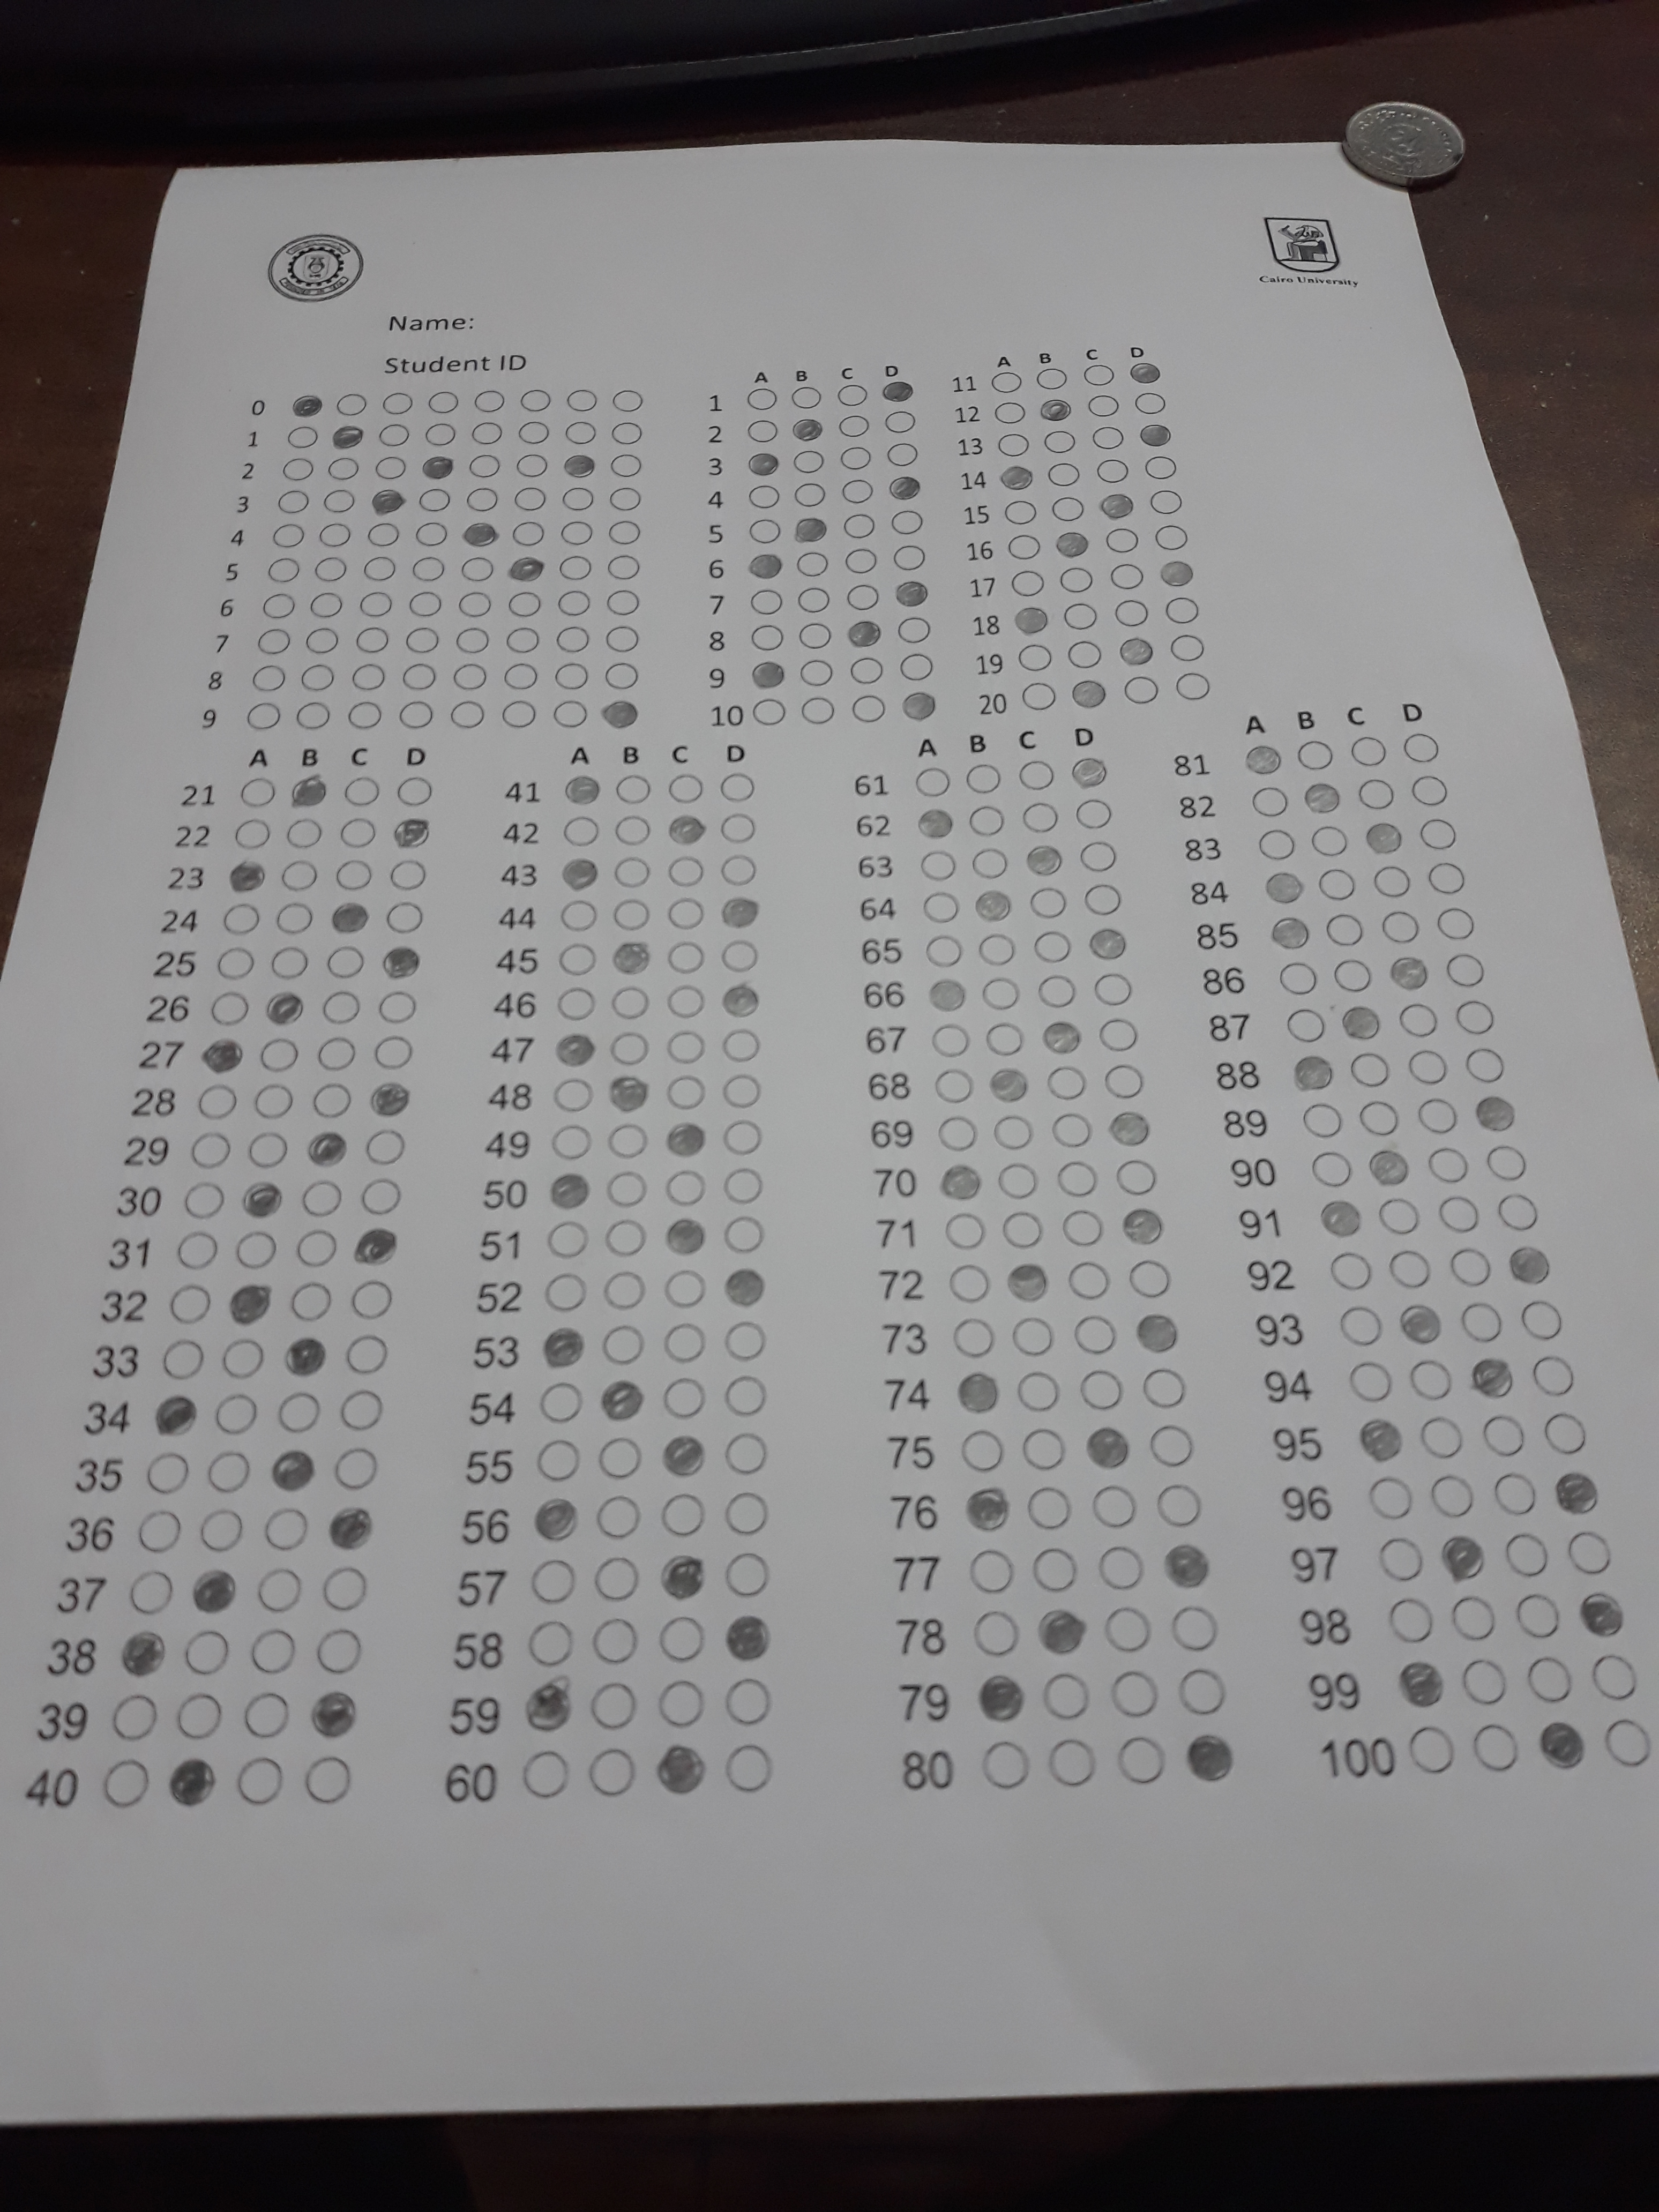not-c: (1103, 1604, 1154, 1655), (1108, 1669, 1159, 1719), (1471, 1721, 1521, 1771), (1405, 1724, 1455, 1775), (1460, 1655, 1511, 1705), (1527, 1653, 1577, 1703), (1589, 1651, 1640, 1702), (1513, 1590, 1563, 1641), (1448, 1594, 1499, 1644), (1385, 1595, 1436, 1646), (1502, 1529, 1553, 1580), (1377, 1534, 1427, 1585), (1089, 1480, 1140, 1531), (1154, 1479, 1204, 1529), (958, 1425, 1009, 1475), (1019, 1423, 1070, 1474), (1147, 1420, 1197, 1470), (1140, 1362, 1190, 1413), (1077, 1364, 1127, 1414), (1070, 1310, 1121, 1360), (721, 1676, 772, 1726), (537, 1378, 587, 1428), (660, 1372, 711, 1423), (721, 1428, 772, 1479), (720, 1487, 770, 1538), (315, 1625, 366, 1676), (723, 1743, 774, 1794), (587, 1747, 638, 1797), (526, 1616, 577, 1667), (721, 1550, 772, 1601), (528, 1557, 579, 1608), (1042, 1670, 1093, 1721), (972, 1608, 1023, 1658), (1168, 1602, 1218, 1653), (1096, 1541, 1147, 1592), (967, 1547, 1018, 1597), (319, 1562, 369, 1613), (230, 1226, 281, 1277), (303, 1756, 354, 1806), (234, 1754, 284, 1804), (247, 1627, 298, 1677), (254, 1564, 305, 1615), (662, 1261, 713, 1312), (599, 1264, 650, 1315), (166, 1278, 216, 1329), (286, 1277, 336, 1327), (159, 1336, 209, 1386), (181, 1627, 232, 1677), (204, 1447, 254, 1498), (336, 1386, 387, 1437), (101, 1757, 152, 1808), (110, 1691, 160, 1742), (125, 1566, 176, 1616), (141, 1447, 192, 1498), (659, 1487, 709, 1538), (596, 1430, 647, 1480), (535, 1435, 586, 1486), (723, 1677, 772, 1728), (1115, 1735, 1166, 1784), (1601, 1717, 1652, 1766), (1026, 1482, 1075, 1533), (1012, 1367, 1063, 1416), (657, 1679, 708, 1728), (598, 1320, 647, 1371), (660, 1318, 711, 1367), (720, 1372, 770, 1421), (592, 1493, 643, 1541), (521, 1749, 572, 1797), (591, 1616, 641, 1665), (981, 1742, 1032, 1791), (1047, 1737, 1096, 1787), (1030, 1545, 1080, 1594), (291, 1223, 342, 1271), (171, 1226, 221, 1275), (240, 1689, 291, 1738), (345, 1275, 396, 1324), (216, 1336, 267, 1385), (275, 1388, 326, 1437), (258, 1505, 308, 1554), (209, 1390, 260, 1439), (174, 1691, 225, 1740), (197, 1505, 246, 1555), (342, 1331, 392, 1379), (329, 1444, 380, 1493), (136, 1507, 186, 1555), (659, 1613, 709, 1662), (1178, 1669, 1227, 1717), (721, 1318, 770, 1367), (591, 1681, 640, 1730), (591, 1555, 640, 1604), (601, 1214, 652, 1261), (1427, 1474, 1476, 1521), (950, 1313, 999, 1360), (999, 1207, 1047, 1254), (542, 1270, 592, 1315), (1567, 1531, 1615, 1576), (1492, 1472, 1540, 1517), (1368, 1475, 1417, 1521), (1417, 1414, 1466, 1460), (1481, 1413, 1530, 1458), (1544, 1411, 1593, 1456), (1530, 1353, 1579, 1399), (1406, 1357, 1455, 1402), (1345, 1359, 1394, 1404), (1007, 1313, 1056, 1359), (1124, 1256, 1173, 1301), (1065, 1258, 1114, 1303), (945, 1259, 993, 1305), (939, 1209, 988, 1254), (1058, 1205, 1107, 1251), (1053, 1157, 1101, 1202), (1518, 1298, 1565, 1343), (721, 1212, 767, 1258), (1114, 1158, 1162, 1200), (1459, 1301, 1507, 1343), (1338, 1305, 1387, 1346), (1326, 1249, 1375, 1291), (1448, 1245, 1497, 1287), (1434, 1193, 1483, 1235), (1413, 1096, 1462, 1137), (1298, 1099, 1347, 1141), (1049, 1109, 1096, 1151), (990, 1111, 1037, 1153), (934, 1113, 981, 1155), (932, 1066, 979, 1108), (1389, 1249, 1436, 1291), (1495, 1191, 1542, 1233), (1377, 1193, 1424, 1235), (1483, 1141, 1530, 1183), (1425, 1143, 1473, 1184), (1307, 1148, 1354, 1190), (1356, 1097, 1403, 1139), (997, 1158, 1040, 1202), (549, 1122, 596, 1162), (605, 1169, 652, 1209), (608, 1122, 653, 1162), (664, 1071, 709, 1111), (720, 1118, 765, 1158), (664, 1169, 709, 1209), (721, 1167, 767, 1207), (545, 1219, 591, 1259), (314, 1033, 359, 1073), (256, 1036, 301, 1076), (195, 1082, 240, 1122), (251, 1082, 296, 1122), (310, 1082, 355, 1122), (246, 1130, 291, 1170), (188, 1130, 234, 1170), (181, 1181, 227, 1221), (301, 1179, 347, 1219), (359, 1176, 404, 1216), (364, 1127, 410, 1167), (373, 1031, 418, 1071), (720, 937, 763, 975), (1331, 956, 1375, 995), (1016, 756, 1060, 794), (1354, 775, 1398, 813), (1091, 970, 1133, 1008), (1037, 972, 1079, 1010), (1046, 1064, 1087, 1103), (1096, 1015, 1138, 1054), (1032, 928, 1073, 967), (979, 974, 1021, 1012), (1103, 1062, 1145, 1101), (1351, 1050, 1392, 1089), (1455, 998, 1497, 1036), (1399, 1001, 1441, 1040), (1445, 953, 1486, 991), (922, 888, 964, 927), (917, 846, 958, 885), (1019, 799, 1061, 838), (1072, 796, 1114, 834), (1384, 907, 1425, 946), (1427, 859, 1469, 897), (1371, 862, 1413, 900), (1317, 866, 1359, 904), (1256, 826, 1298, 864), (1401, 728, 1443, 766), (1295, 737, 1337, 775), (1026, 885, 1070, 921), (965, 803, 1009, 840), (962, 761, 1006, 798), (985, 1021, 1026, 1057), (931, 1022, 972, 1059), (976, 930, 1018, 967), (1464, 1047, 1506, 1083), (1406, 1049, 1448, 1085), (1286, 1008, 1328, 1045), (1277, 960, 1319, 996), (1082, 881, 1124, 918), (922, 934, 964, 970), (1079, 838, 1121, 874), (969, 845, 1011, 881), (1324, 911, 1366, 948), (1436, 907, 1478, 944), (1417, 817, 1459, 853), (1309, 822, 1351, 859), (1408, 772, 1450, 808), (1249, 784, 1291, 820), (1349, 733, 1391, 770), (375, 989, 416, 1026), (667, 939, 709, 975), (321, 989, 362, 1026), (666, 772, 708, 808), (326, 944, 368, 981), (270, 944, 312, 981), (284, 815, 326, 852), (209, 989, 251, 1026), (218, 900, 260, 937), (232, 815, 274, 852), (239, 775, 281, 812), (394, 772, 436, 808), (385, 900, 427, 937), (556, 986, 598, 1022), (612, 986, 653, 1022), (666, 984, 708, 1021), (552, 1076, 594, 1113), (666, 1029, 708, 1066), (720, 1028, 762, 1064), (720, 1073, 762, 1109), (558, 897, 599, 934), (612, 897, 653, 934), (666, 853, 708, 890), (612, 853, 653, 890), (716, 810, 758, 846), (612, 812, 653, 848), (716, 768, 758, 805), (558, 942, 599, 977), (277, 859, 319, 894), (214, 946, 256, 981), (335, 859, 376, 894), (338, 815, 380, 850), (342, 773, 383, 808), (387, 859, 429, 894), (610, 1031, 652, 1066), (666, 895, 708, 930), (716, 852, 758, 887), (561, 813, 603, 848), (274, 900, 314, 935), (242, 700, 282, 732), (254, 625, 295, 657), (455, 589, 495, 620), (404, 587, 444, 618), (260, 590, 300, 622), (457, 552, 497, 583), (406, 552, 446, 583), (263, 556, 303, 587), (605, 517, 645, 549), (268, 521, 308, 552), (411, 519, 451, 550), (511, 484, 551, 516), (462, 484, 502, 516), (415, 484, 455, 516), (319, 484, 359, 516), (894, 613, 934, 644), (796, 657, 836, 688), (798, 695, 838, 726), (552, 624, 592, 655), (448, 698, 488, 730), (403, 625, 443, 657), (345, 698, 385, 730), (293, 700, 333, 732), (296, 662, 336, 693), (742, 415, 782, 446), (789, 446, 829, 477), (746, 516, 786, 547), (887, 507, 927, 538), (840, 545, 880, 577), (791, 549, 831, 580), (1061, 601, 1101, 632), (1056, 564, 1096, 596), (1006, 531, 1046, 563), (1107, 563, 1147, 594), (1168, 632, 1208, 664), (1173, 671, 1213, 702), (1019, 681, 1060, 712), (552, 698, 591, 730), (249, 662, 288, 693), (303, 625, 342, 657), (507, 587, 545, 618), (357, 589, 396, 620), (307, 589, 345, 620), (310, 556, 349, 587), (509, 517, 547, 549), (317, 521, 355, 552), (366, 521, 404, 552), (608, 484, 647, 516), (500, 698, 538, 730), (502, 660, 540, 691), (899, 651, 938, 683), (849, 655, 887, 686), (850, 693, 889, 725), (603, 660, 641, 691), (603, 622, 641, 653), (504, 625, 542, 657), (453, 625, 491, 657), (397, 698, 436, 730), (401, 660, 439, 691), (352, 625, 390, 657), (603, 585, 641, 617), (556, 587, 594, 618), (843, 580, 882, 611), (836, 411, 875, 442), (882, 406, 920, 437), (836, 442, 875, 474), (884, 439, 922, 470), (838, 475, 877, 507), (789, 479, 828, 510), (744, 481, 782, 512), (795, 583, 833, 615), (842, 510, 880, 542), (749, 622, 788, 653), (1016, 641, 1054, 672), (1066, 639, 1105, 671), (1011, 568, 1049, 599), (1049, 493, 1087, 524), (1114, 597, 1152, 629), (1164, 594, 1202, 625), (1122, 674, 1161, 705), (558, 484, 598, 514), (451, 662, 491, 691), (349, 662, 389, 691), (913, 768, 953, 798), (1000, 498, 1040, 528), (1101, 526, 1141, 556), (556, 552, 594, 582), (605, 552, 643, 582), (361, 554, 399, 583), (558, 517, 596, 547), (552, 662, 591, 691), (617, 773, 655, 803), (749, 697, 788, 726), (796, 622, 835, 651), (889, 543, 927, 573), (749, 587, 788, 617), (1154, 524, 1190, 554), (1147, 488, 1183, 517), (1094, 456, 1131, 486), (1141, 453, 1178, 482), (1089, 421, 1126, 451), (1040, 427, 1077, 456), (995, 430, 1032, 460), (1133, 388, 1169, 418), (1082, 390, 1119, 420), (992, 397, 1028, 427), (1080, 361, 1117, 390), (1033, 364, 1070, 394), (988, 369, 1025, 399), (836, 381, 873, 411), (789, 383, 826, 413), (742, 383, 779, 413), (274, 486, 310, 516), (326, 453, 362, 482), (373, 453, 410, 482), (610, 451, 647, 481), (516, 451, 552, 481), (467, 451, 504, 481), (610, 420, 647, 449), (563, 418, 599, 448), (518, 420, 554, 449), (469, 418, 505, 448), (422, 420, 458, 449), (284, 423, 321, 453), (378, 420, 415, 449), (608, 387, 645, 416), (563, 387, 599, 416), (518, 385, 554, 415), (472, 387, 509, 416), (425, 387, 462, 416), (378, 388, 415, 418), (335, 390, 371, 420), (1047, 460, 1082, 489), (281, 453, 315, 482)
taken-c: (181, 1564, 244, 1616), (321, 1501, 383, 1554), (718, 1613, 781, 1665), (516, 1683, 577, 1735), (162, 1756, 223, 1808), (113, 1627, 174, 1679), (261, 1444, 322, 1496), (301, 1689, 362, 1740), (653, 1743, 708, 1796), (1534, 1721, 1588, 1773), (1183, 1731, 1236, 1784), (1396, 1660, 1450, 1709), (1159, 1541, 1213, 1590), (960, 1486, 1014, 1534), (1438, 1533, 1492, 1581), (1082, 1423, 1136, 1472), (950, 1367, 1004, 1416), (1033, 1608, 1086, 1656), (974, 1672, 1026, 1721), (1467, 1353, 1520, 1402), (1577, 1590, 1631, 1637), (1394, 1299, 1448, 1346), (146, 1392, 202, 1437), (535, 1325, 591, 1371), (542, 1169, 598, 1214), (223, 1282, 279, 1327), (1549, 1470, 1601, 1517), (1354, 1416, 1406, 1463), (279, 1334, 333, 1379), (655, 1432, 709, 1477), (596, 1379, 650, 1425), (657, 1216, 711, 1261), (234, 1177, 288, 1223), (349, 1224, 403, 1270), (533, 1493, 580, 1543), (657, 1554, 711, 1597), (301, 1129, 352, 1170), (364, 1078, 415, 1120), (197, 1035, 247, 1076), (261, 988, 312, 1029), (657, 1118, 708, 1160), (603, 1075, 653, 1115), (547, 1029, 598, 1069), (326, 899, 376, 939), (1133, 1312, 1180, 1353), (376, 942, 425, 982), (1507, 1245, 1554, 1284), (1366, 1148, 1413, 1186), (716, 982, 763, 1021), (1004, 1264, 1051, 1303), (1119, 1207, 1166, 1245), (1039, 1019, 1086, 1057), (608, 939, 653, 977), (721, 1270, 767, 1308), (1317, 1200, 1363, 1238), (1474, 1096, 1520, 1134), (716, 892, 762, 930), (938, 1163, 983, 1202), (1107, 1109, 1152, 1148), (986, 1066, 1032, 1104), (924, 977, 967, 1014), (1086, 927, 1129, 963), (971, 888, 1014, 925), (1021, 841, 1065, 878), (1291, 1055, 1335, 1092), (1387, 954, 1431, 991), (1262, 869, 1305, 906), (1363, 820, 1406, 857), (1298, 779, 1342, 815), (1269, 916, 1310, 953), (1340, 1005, 1384, 1040), (599, 698, 641, 732), (744, 552, 786, 585), (1243, 744, 1284, 777), (748, 658, 789, 691), (563, 775, 605, 808), (890, 577, 932, 610), (1154, 557, 1195, 590), (1117, 636, 1159, 669), (1068, 678, 1110, 711), (899, 690, 941, 723), (558, 449, 599, 482), (416, 449, 458, 482), (390, 817, 432, 850), (288, 775, 329, 808), (1070, 756, 1112, 787), (505, 554, 547, 585), (458, 519, 500, 550), (366, 486, 408, 517), (328, 421, 369, 453), (286, 390, 328, 421), (225, 860, 267, 892), (559, 857, 601, 888), (667, 817, 709, 848), (917, 810, 957, 841), (1098, 489, 1138, 521), (789, 514, 829, 545), (1012, 604, 1053, 636), (1053, 528, 1093, 559), (742, 449, 782, 479), (997, 463, 1037, 493), (845, 620, 885, 650), (1136, 421, 1175, 451), (880, 376, 915, 408), (1035, 395, 1072, 425), (789, 415, 826, 444), (1126, 359, 1164, 387), (885, 474, 924, 502)
